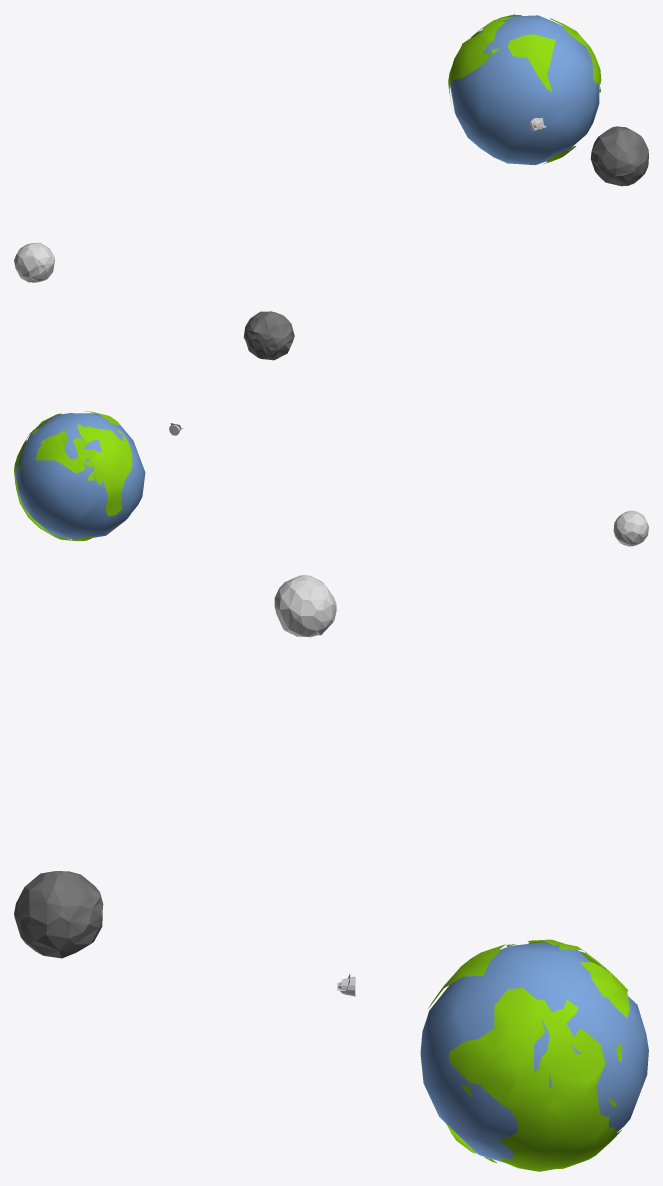
File: FlyToMoon.FBX
The picture shows the model from 3 angles, top to bottom: view 1: azimuth 30°, elevation 25°; view 2: azimuth 150°, elevation 25°; view 3: azimuth 270°, elevation 25°; orthographic projection. The views are drawn at different scales.
Visible parts, largest first — view 1: Earth, Moon, Sun; view 2: Earth, Moon, Sun; view 3: Earth, Moon, Sun.
Part boxes in pixels (bbox=[...]): Earth: bbox=[448, 14, 601, 165]; Moon: bbox=[590, 126, 648, 186]; Sun: bbox=[14, 242, 54, 282]; Earth: bbox=[14, 411, 145, 541]; Moon: bbox=[243, 311, 294, 360]; Sun: bbox=[613, 510, 648, 546]; Earth: bbox=[420, 939, 648, 1171]; Moon: bbox=[14, 871, 103, 958]; Sun: bbox=[274, 575, 336, 637].
Bounding box in the file's own units: 20859 × 4875 × 11681.
